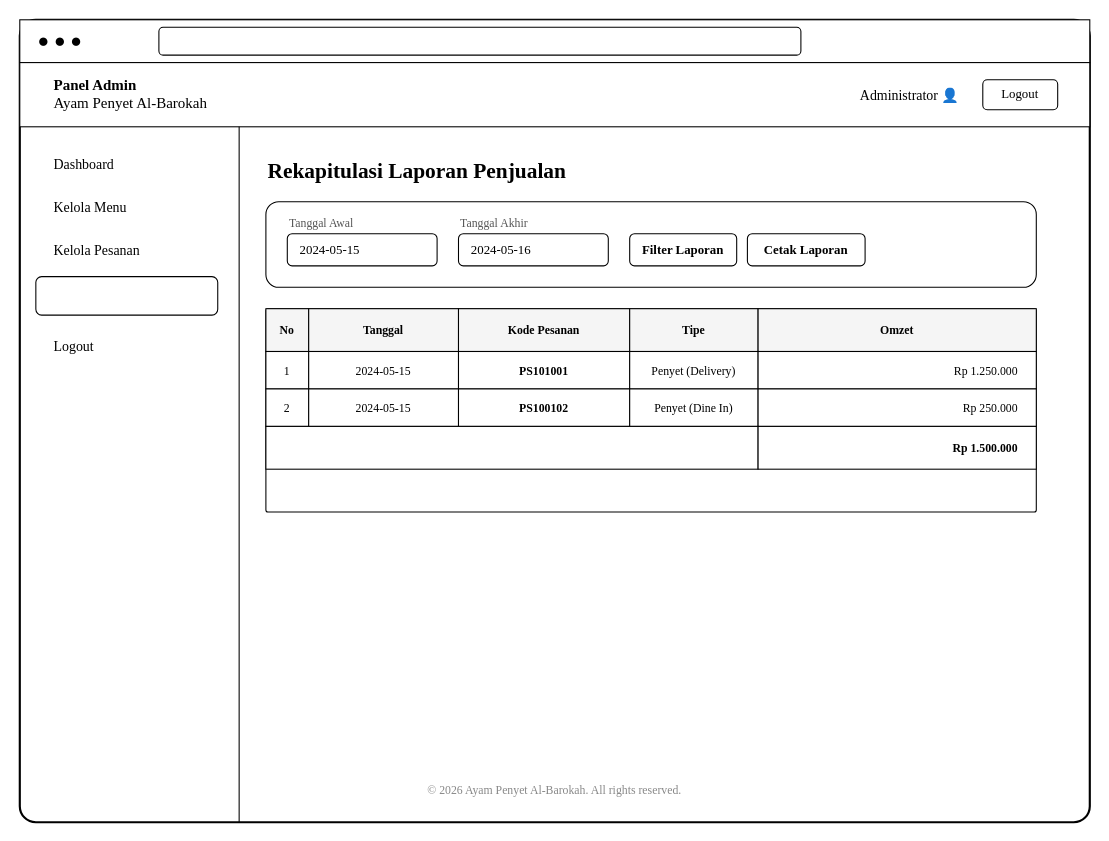
Some shapes in this 1109 by 841 pixel diagram are drawn without their labels. The centre of each missing label's shape, as x and y in pixels:
"http://localhost/ayam-penyet/admin/laporan.php" goes at point (479, 40).
"Laporan Penjualan" goes at point (126, 295).
"TOTAL AKUMULASI PENDAPATAN:" goes at point (511, 447).
